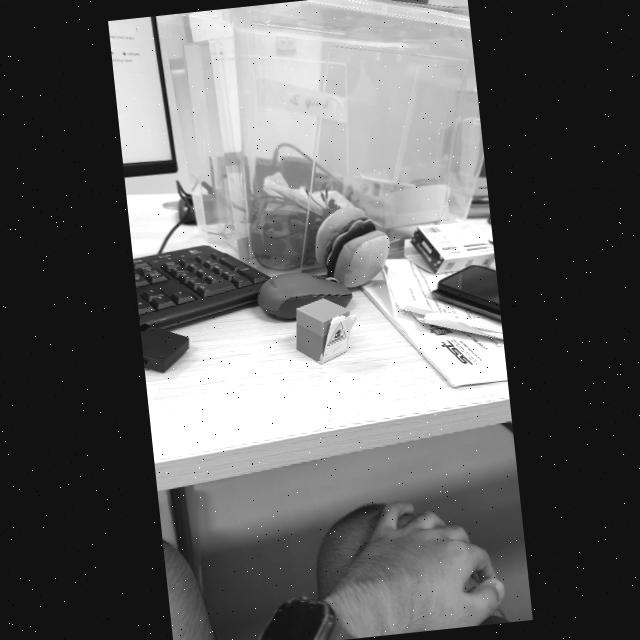Tsunami: (326, 323, 345, 345)
